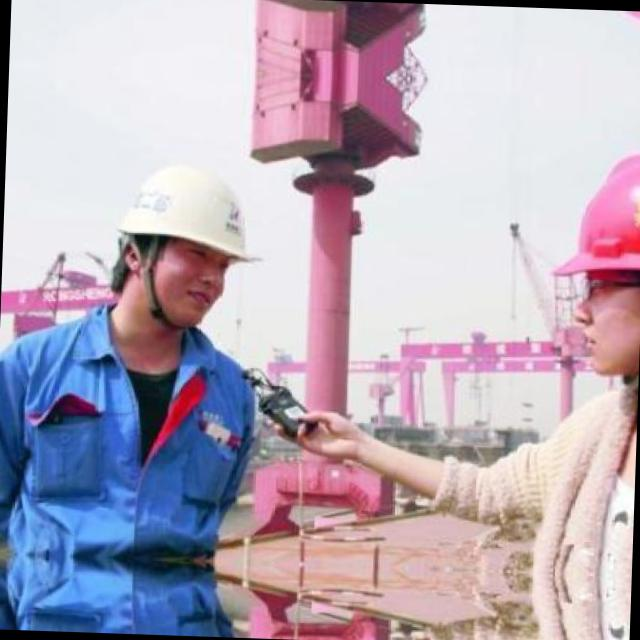helmet: (98, 140, 266, 348), (537, 125, 640, 407)
